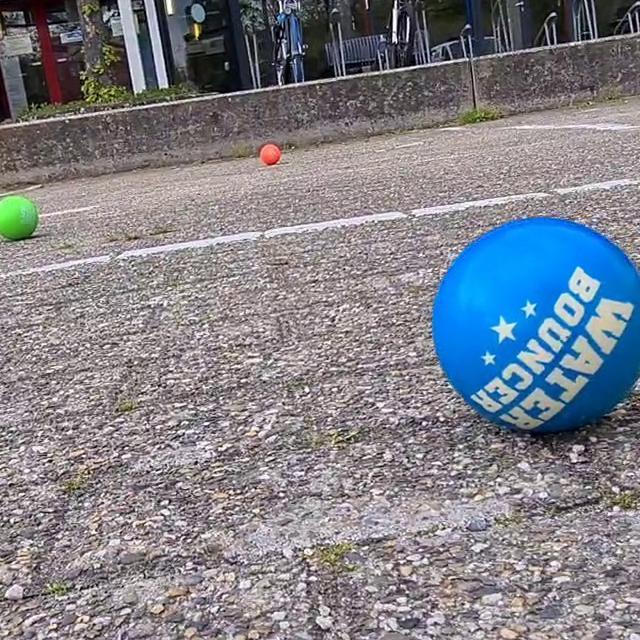ball: (2, 193, 38, 242), (259, 139, 282, 168)
